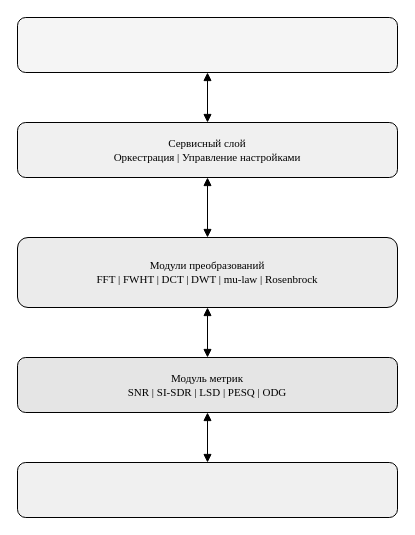
Some shapes in this 415 by 535 pixel diagram are drawn without their labels. The shapes that lost their labels are listed below. From the top down, each one's centre as x and y in pixels, then its label:
point 207,44: GUI (PyQt5) Главное окно | Панель управления | Визуализация
point 207,490: Ввод/Вывод Чтение/запись WAV | Экспорт результатов
